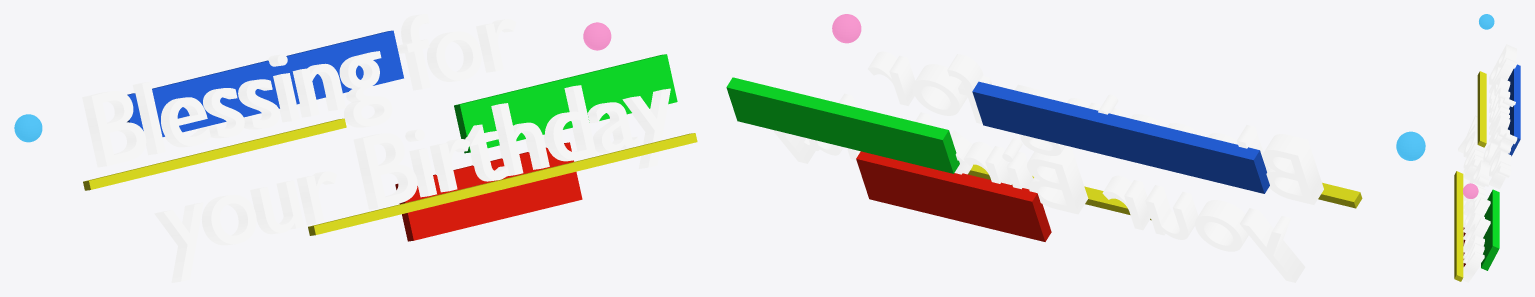
3 views of the same model, side by side, from view 1: azimuth 30°, elevation 25°; view 2: azimuth 150°, elevation 25°; view 3: azimuth 270°, elevation 25° (orthographic). The views are drawn at different scales.
Parts seen in each view (by area): view 1: テキスト, 立方体.003, 立方体.002, 立方体.004, 立方体.001, 立方体, 球, 球.001; view 2: テキスト, 立方体.002, 立方体.003, 立方体.004, 立方体.001, 立方体, 球, 球.001; view 3: テキスト, 立方体.001, 立方体.003, 立方体.002, 立方体, 球.001, 球.
Part boxes in pixels (x1,y1,x2,y2): テキスト: [82, 14, 670, 282]; 立方体.003: [454, 54, 677, 153]; 立方体.002: [127, 30, 403, 136]; 立方体.004: [395, 142, 582, 241]; 立方体.001: [308, 133, 697, 235]; 立方体: [83, 118, 346, 190]; 球: [14, 114, 42, 142]; 球.001: [583, 22, 611, 50]; テキスト: [772, 51, 1323, 282]; 立方体.002: [972, 81, 1269, 193]; 立方体.003: [726, 77, 959, 173]; 立方体.004: [856, 151, 1051, 241]; 立方体.001: [968, 164, 1151, 220]; 立方体: [1318, 182, 1362, 208]; 球: [1396, 131, 1425, 160]; 球.001: [832, 14, 861, 43]; テキスト: [1458, 44, 1517, 282]; 立方体.001: [1454, 171, 1463, 281]; 立方体.003: [1481, 189, 1499, 270]; 立方体.002: [1507, 64, 1520, 156]; 立方体: [1477, 71, 1486, 147]; 球.001: [1463, 183, 1478, 198]; 球: [1479, 14, 1494, 29].
Bounding box in the file's own units: 2.54 × 0.7555 × 0.3987.
